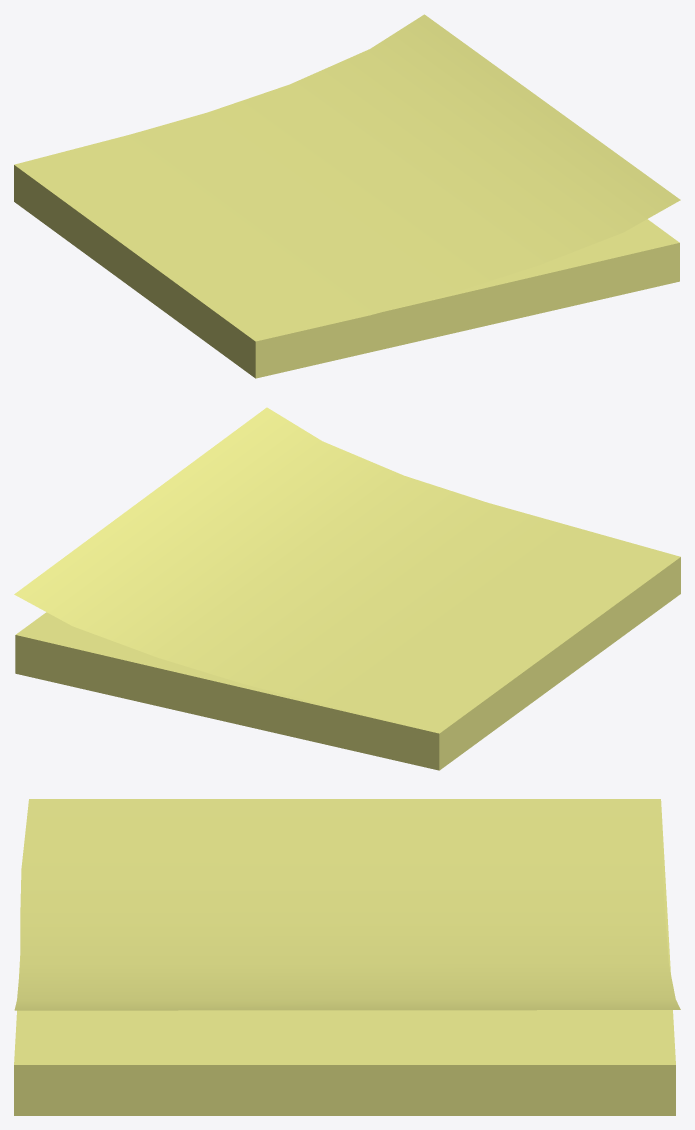
The model's file is stickyNotePad.fbx.
The picture shows the model from 3 angles, top to bottom: view 1: azimuth 30°, elevation 25°; view 2: azimuth 150°, elevation 25°; view 3: azimuth 270°, elevation 25°; orthographic projection. The views are drawn at different scales.
Visible parts, largest first — view 1: Cube; view 2: Cube; view 3: Cube.
Part boxes in pixels (left/top/right/bottom): Cube: left=14, top=14, right=680, bottom=378; Cube: left=14, top=407, right=680, bottom=770; Cube: left=14, top=799, right=680, bottom=1115.
Size of the model in its own units: 201 by 37.02 by 211.
